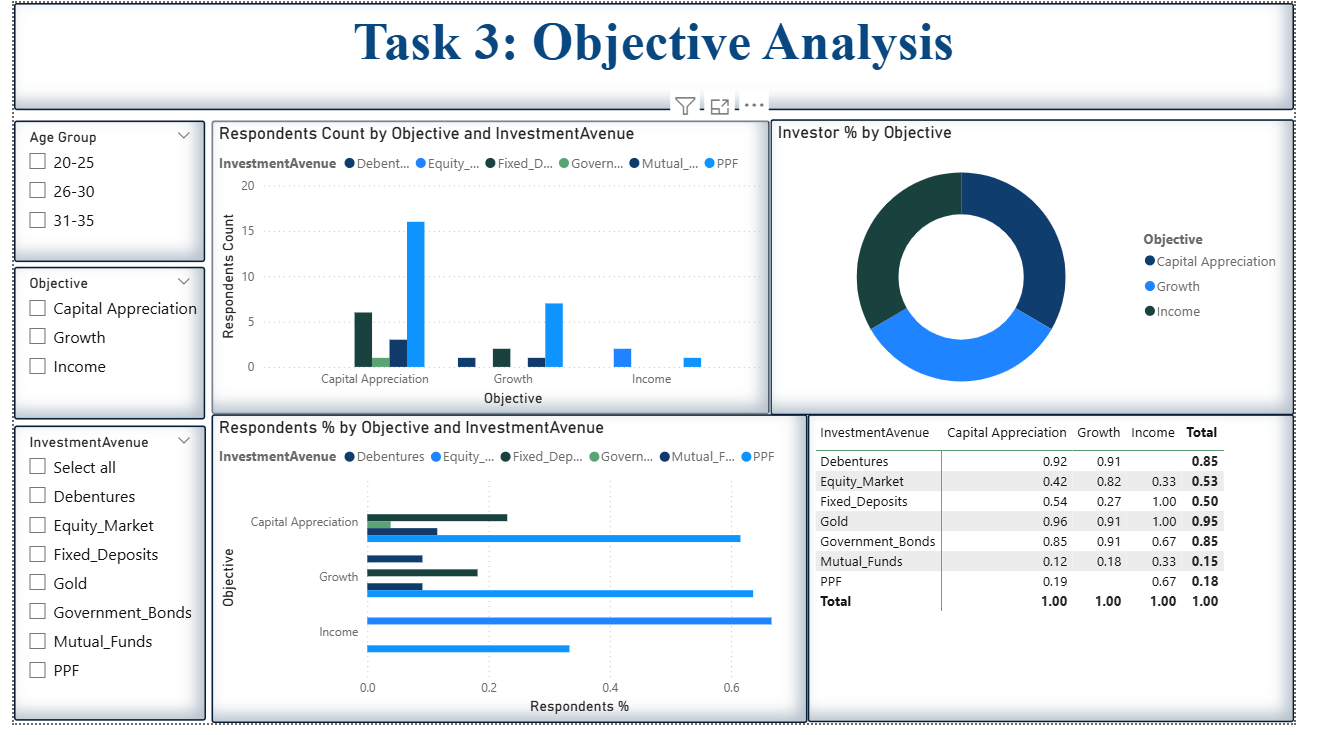

The page's visual inventory and layout, read from the dashboard file:
{"tool":"powerbi","page":{"name":"Task 3","canvas":[1280,720],"ordinal":2},"visuals":[{"type":"textbox","box":[0,0,1280,107.5],"z":0},{"type":"slicer","fields":{"Values":["Cognifyz_Dataset.Age Group"]},"box":[0,117.1,191.4,141.4],"z":1000},{"type":"clusteredBarChart","fields":{"Category":["Cognifyz_Dataset.Objective"],"Y":["Cognifyz_Dataset.Respondents %"],"Series":["Cognifyz_Dataset.InvestmentAvenue"]},"box":[197.5,411.2,596.2,308.8],"z":2000},{"type":"donutChart","title":"Investor % by Objective","fields":{"Y":["Cognifyz_Dataset.Investor % by Objective"],"Category":["Cognifyz_Dataset.Objective"]},"box":[756.2,116.2,523.8,296.2],"z":3000},{"type":"clusteredColumnChart","fields":{"Category":["Cognifyz_Dataset.Objective"],"Series":["Cognifyz_Dataset.InvestmentAvenue"],"Y":["Cognifyz_Dataset.Respondents Count"]},"box":[197.5,117.5,558.8,293.8],"z":4000},{"type":"slicer","fields":{"Values":["Cognifyz_Dataset.InvestmentAvenue"]},"box":[0,422.5,191.7,295],"z":5000},{"type":"slicer","fields":{"Values":["Cognifyz_Dataset.Objective"]},"box":[0,264.3,191.4,152.9],"z":6000},{"type":"pivotTable","fields":{"Rows":["Cognifyz_Dataset.InvestmentAvenue"],"Values":["Cognifyz_Dataset.Investor % by Objective"],"Columns":["Cognifyz_Dataset.Objective"]},"box":[793.3,411.7,486.7,308.3],"z":7000}]}

Visuals, with their boxes in screenshot pixels (x1, y1, x2, y2), scaled from the page's 1280x720 canvas onto the 1317x735 screenshot:
textbox: {"left": 0, "top": 0, "right": 1316, "bottom": 110}
slicer - Cognifyz_Dataset.Age Group: {"left": 0, "top": 120, "right": 197, "bottom": 264}
clusteredBarChart - Cognifyz_Dataset.Objective x Cognifyz_Dataset.Respondents %: {"left": 203, "top": 420, "right": 817, "bottom": 734}
"Investor % by Objective" donutChart: {"left": 778, "top": 119, "right": 1316, "bottom": 421}
clusteredColumnChart - Cognifyz_Dataset.Objective x Cognifyz_Dataset.InvestmentAvenue: {"left": 203, "top": 120, "right": 778, "bottom": 420}
slicer - Cognifyz_Dataset.InvestmentAvenue: {"left": 0, "top": 431, "right": 197, "bottom": 732}
slicer - Cognifyz_Dataset.Objective: {"left": 0, "top": 270, "right": 197, "bottom": 426}
pivotTable - Cognifyz_Dataset.InvestmentAvenue x Cognifyz_Dataset.Investor % by Objective: {"left": 816, "top": 420, "right": 1316, "bottom": 734}
